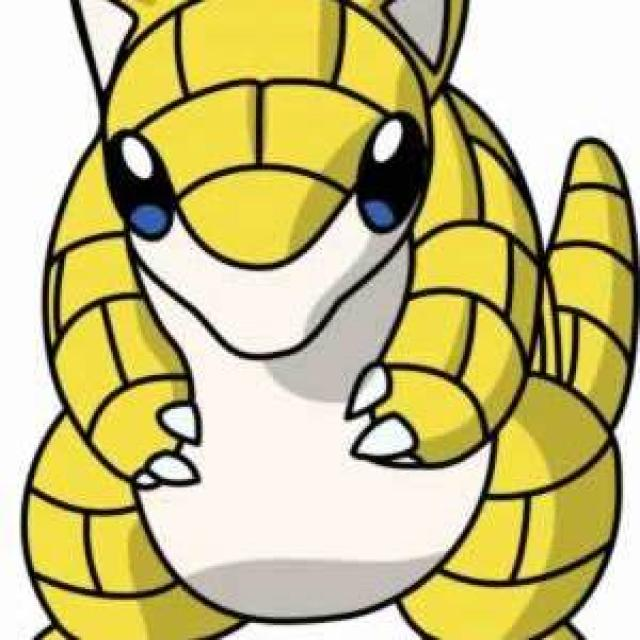Sandshrew: (43, 0, 621, 640)
